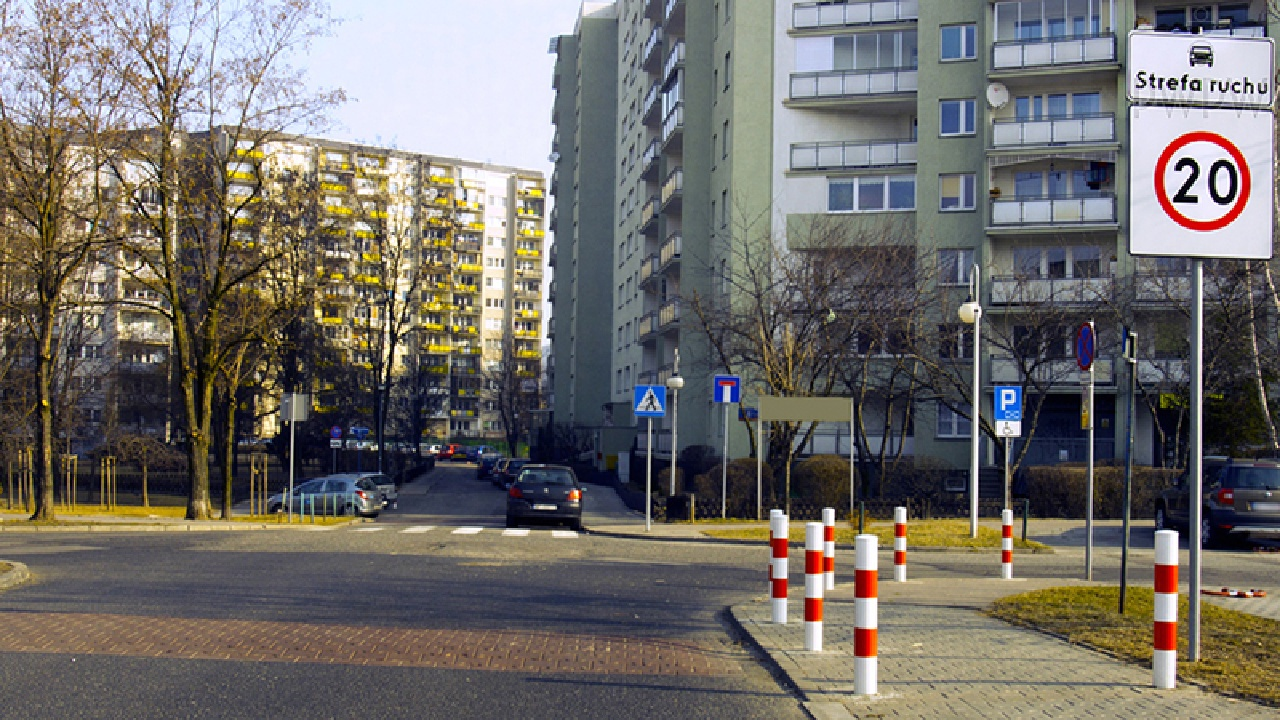B36: (1075, 321, 1094, 370)
B43_20: (1128, 104, 1274, 261)
D18: (995, 386, 1022, 420)
D4a: (714, 375, 740, 403)
D52: (1129, 28, 1277, 107)
D6: (633, 382, 667, 415)
